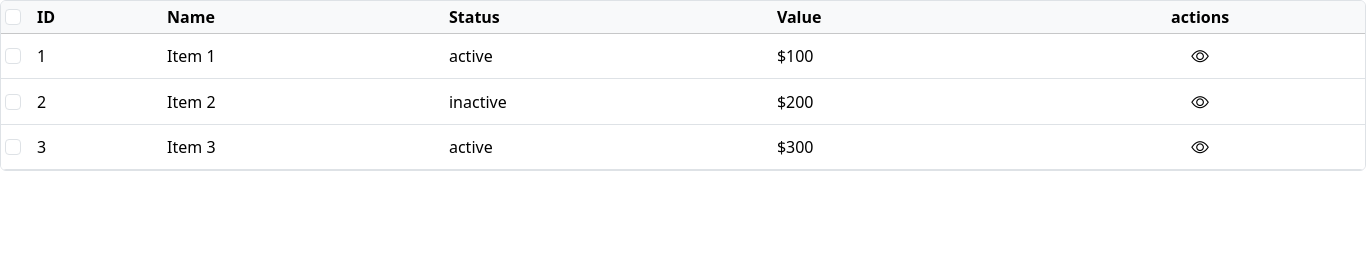
Scenario: DataTable › Actions › renders bulk actions bar when rows are selected
# Select first row
Click the checkbox named "Select row" in the row of "Item 1".
click(13, 56)  # box [5,48,21,64]
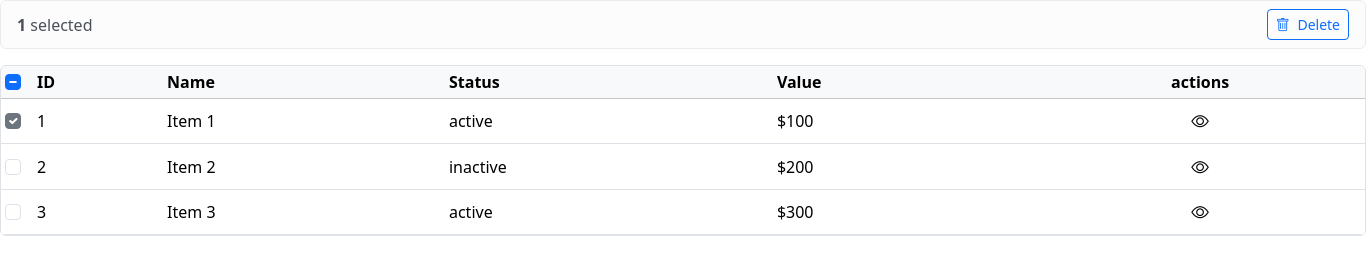
Expected: the text "selected" is shown, [26,14,92,36]
